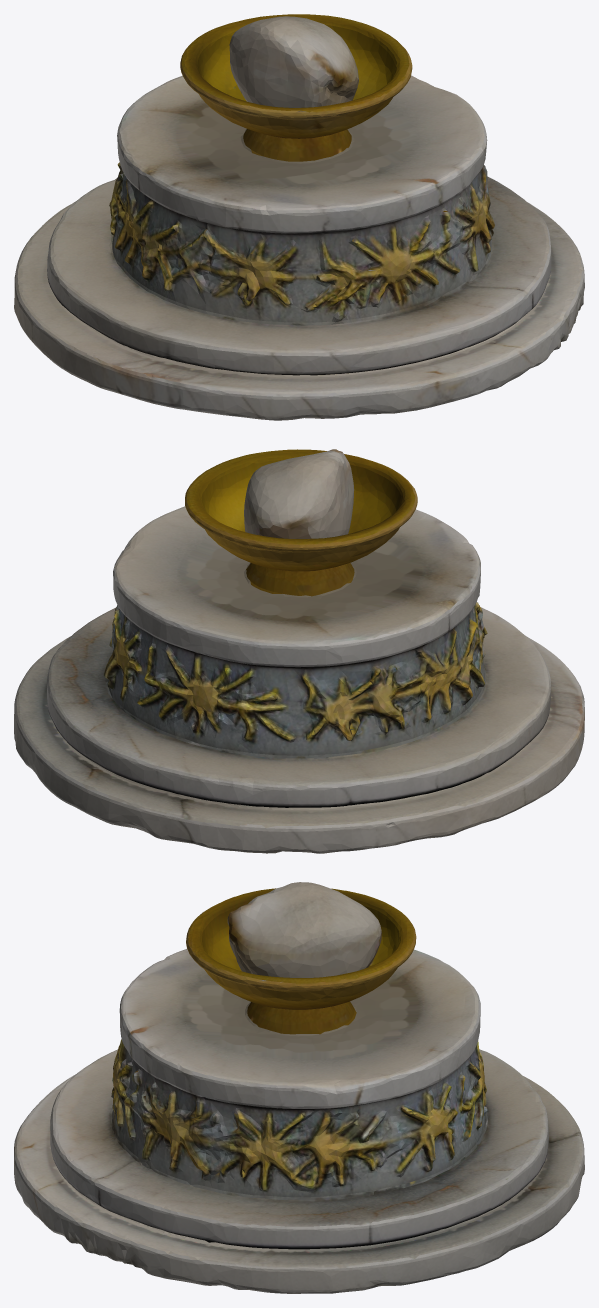
File: solar_altar.glb
The picture shows the model from 3 angles, top to bottom: view 1: azimuth 30°, elevation 25°; view 2: azimuth 150°, elevation 25°; view 3: azimuth 270°, elevation 25°; orthographic projection.
Visible parts, largest first — view 1: tmpg61uk9kh.ply; view 2: tmpg61uk9kh.ply; view 3: tmpg61uk9kh.ply.
Part boxes in pixels (x1=…): tmpg61uk9kh.ply: x1=14, y1=14, x2=584, y2=420; tmpg61uk9kh.ply: x1=14, y1=449, x2=584, y2=853; tmpg61uk9kh.ply: x1=14, y1=882, x2=584, y2=1293.
Size of the model in its own units: 1.99 by 1.08 by 1.99.
Materials: 1 (1 with a texture image).
